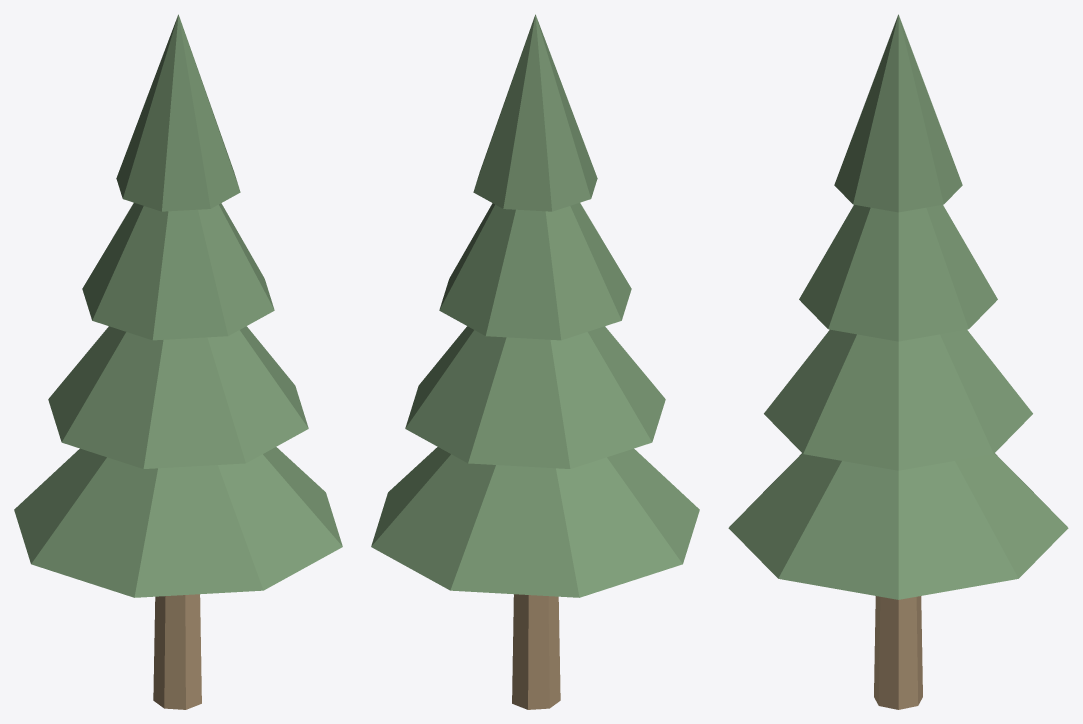
File: wipe-day-survival-island-pine-tree-dfc88d2b.glb
3 views of the same model, side by side, from view 1: azimuth 30°, elevation 25°; view 2: azimuth 150°, elevation 25°; view 3: azimuth 270°, elevation 25° (orthographic).
Visible parts, largest first — view 1: pine-tree; view 2: pine-tree; view 3: pine-tree.
Boxes of the visible parts, <box> form: pine-tree: <box>14,14,342,709</box>; pine-tree: <box>371,14,699,709</box>; pine-tree: <box>728,14,1068,709</box>.
Size of the model in its own units: 2.7 by 6 by 2.7.
